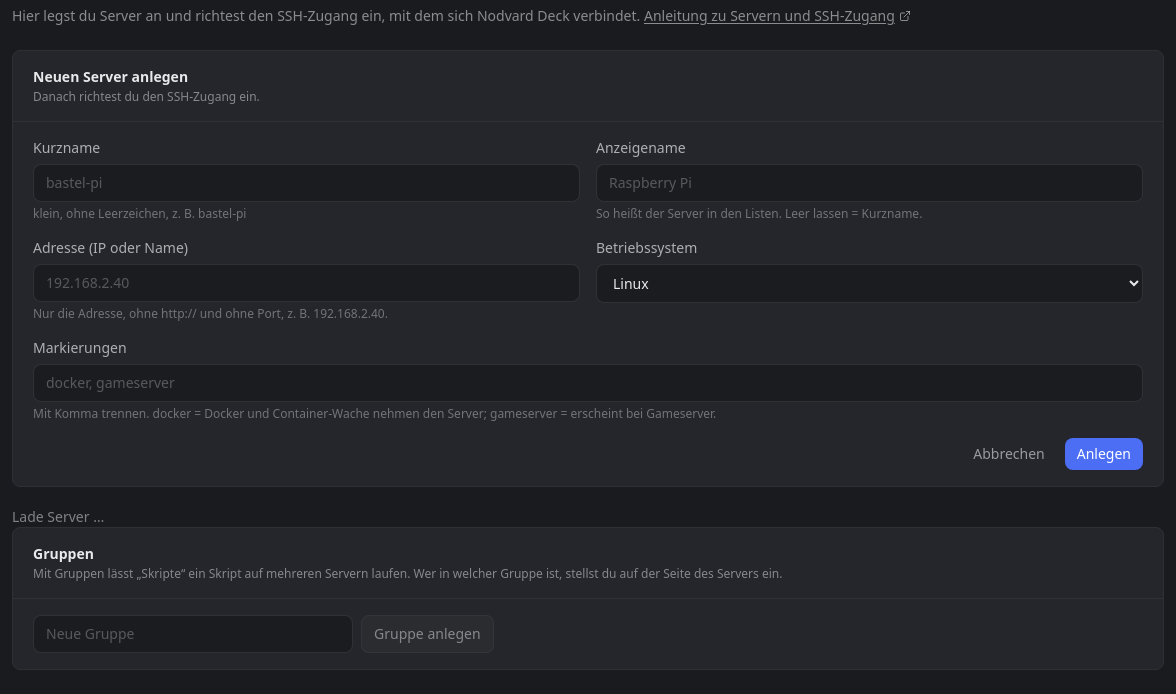
Test: Server & Zugänge: Formular „Neuen Server anlegen“ gleich offen › Abbrechen schließt das Formular und nimmt ?neu=1 aus der Adresse (Neuladen öffnet es nicht wieder)
Expected: the heading "Neuen Server anlegen" is shown, [33,67,188,86]
Click the button "Abbrechen". click: (1009, 454)
box: [961,438,1057,470]
(page scrolled)
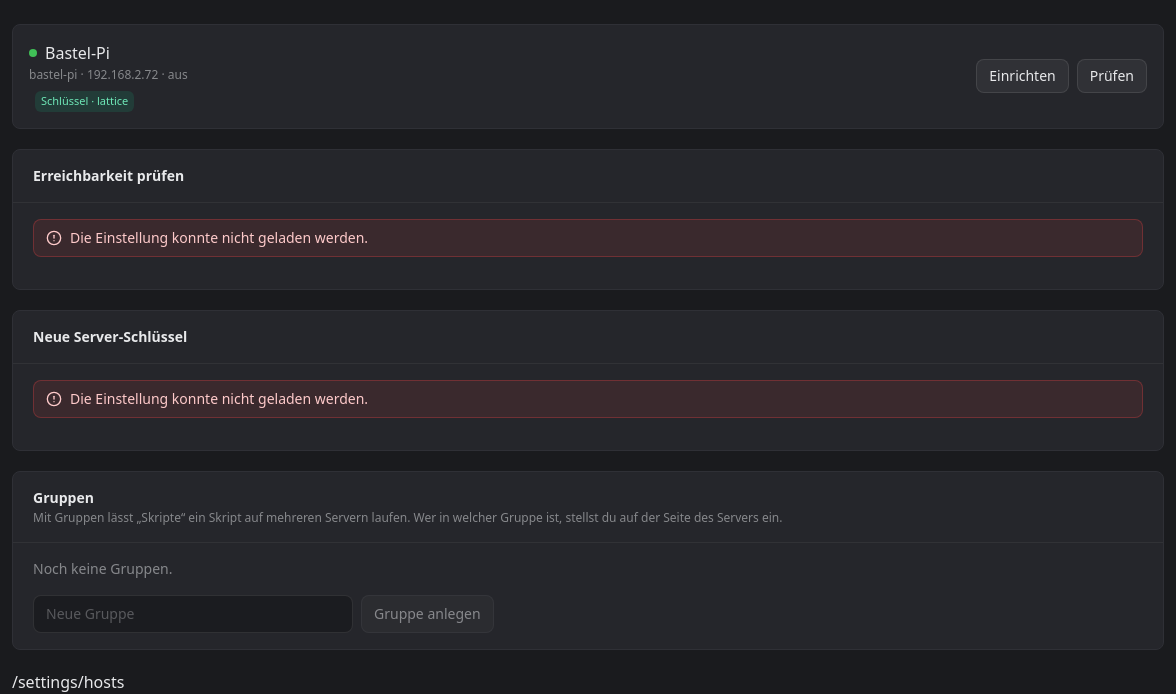
Expected: the heading "Neuen Server anlegen" is gone
Expected: the text with test id "current-url" reads "/settings/hosts", [12,670,124,692]
